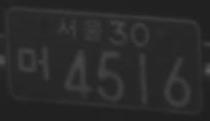0: (128, 19, 151, 48)
1: (131, 50, 157, 106)
3: (107, 18, 128, 47)
4: (63, 46, 94, 100)
5: (95, 48, 126, 104)
6: (162, 55, 192, 109)
머: (16, 44, 51, 82)
서울_O: (56, 16, 104, 45)
